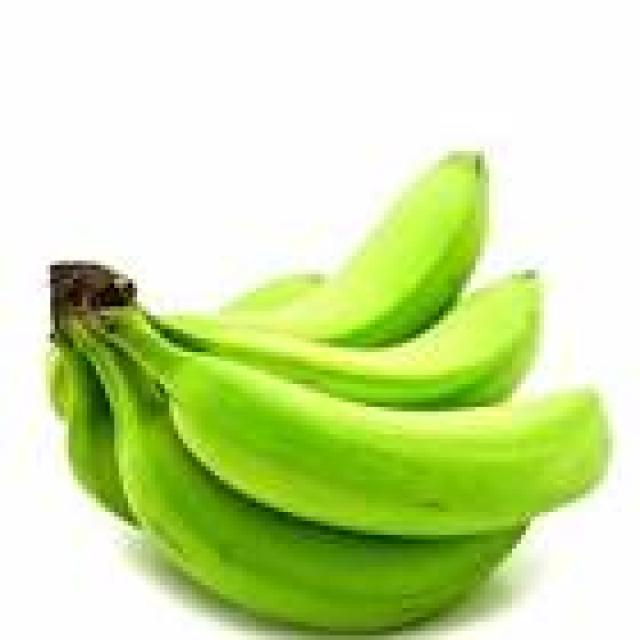banana: (87, 339, 521, 630), (101, 307, 607, 534), (234, 151, 489, 347), (160, 275, 539, 406), (46, 339, 132, 521), (60, 343, 132, 521), (211, 275, 324, 319), (215, 275, 324, 319)
